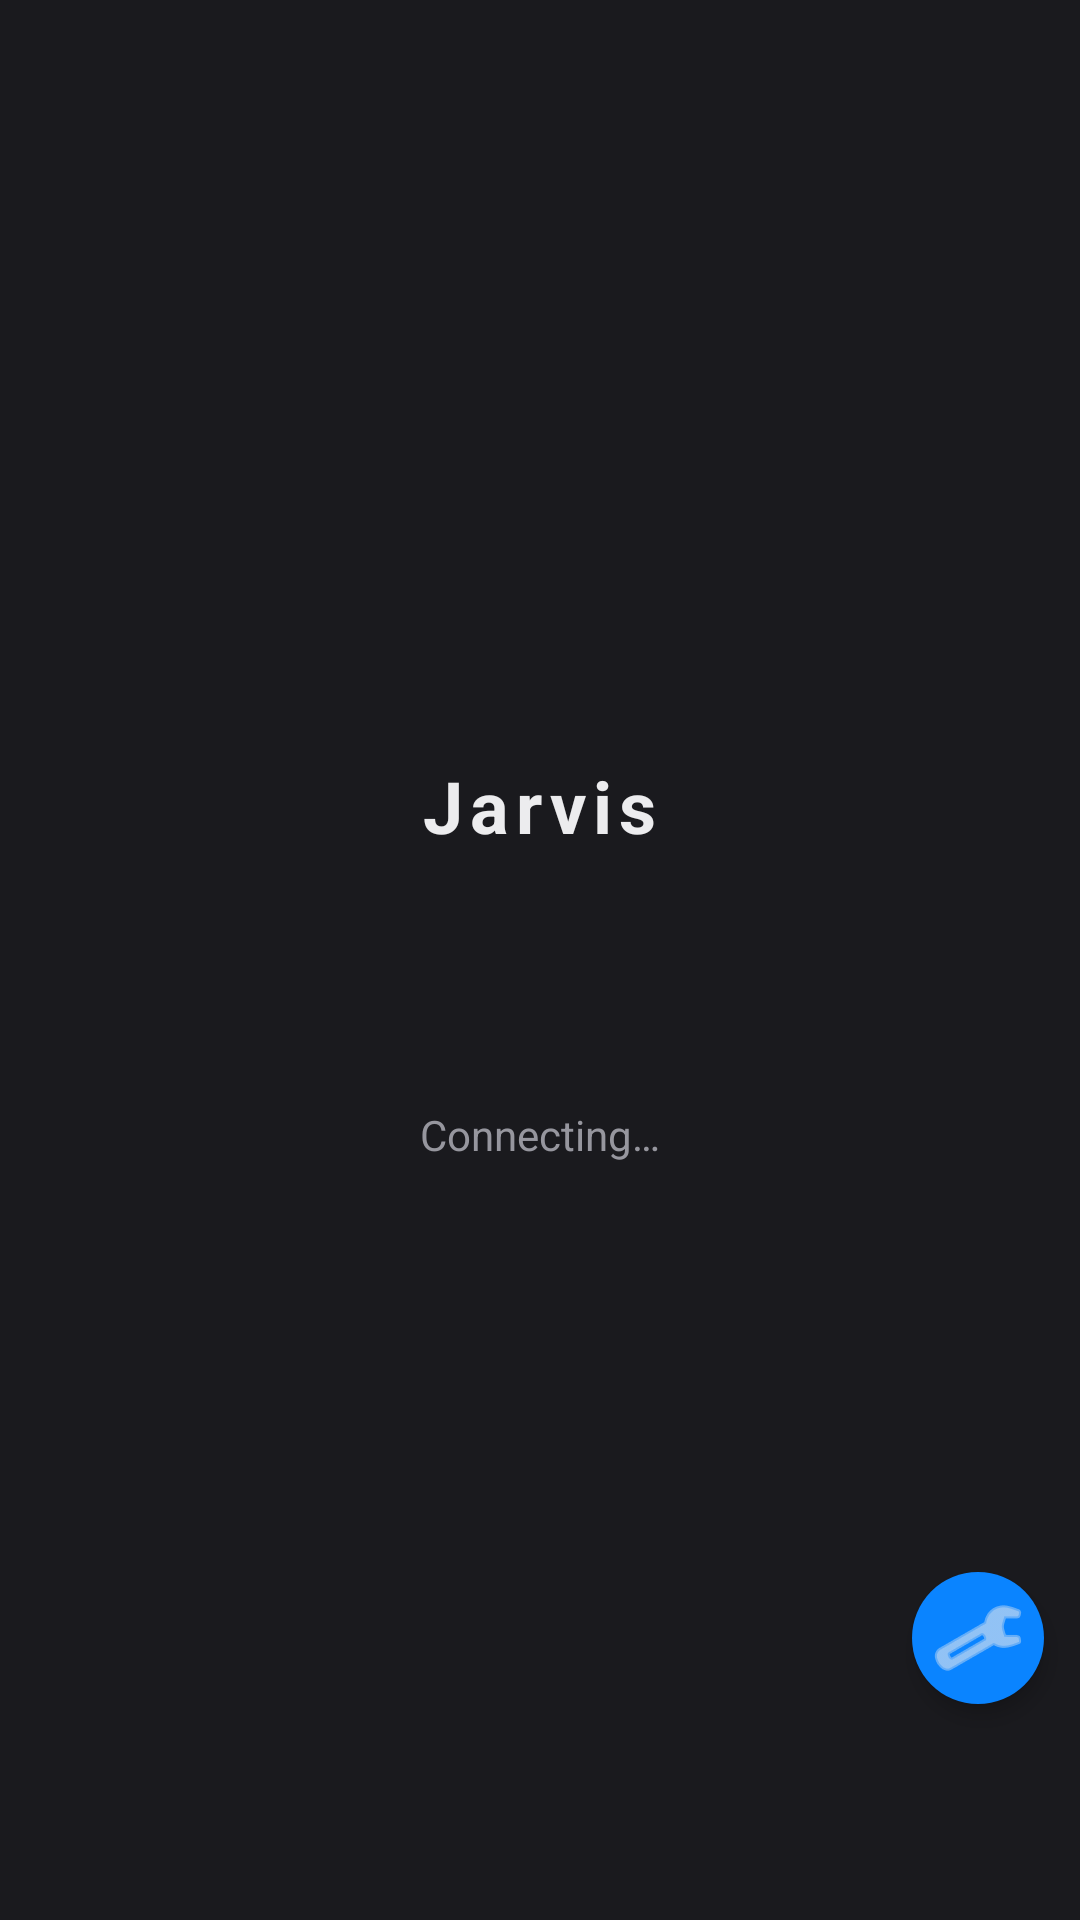

Point at icon controls on the screen. Image size 1080 x 1920, points as (x,y).
Settings: (978,1638)
